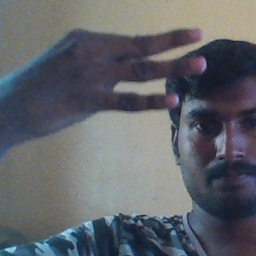K: (10, 27, 210, 121)
